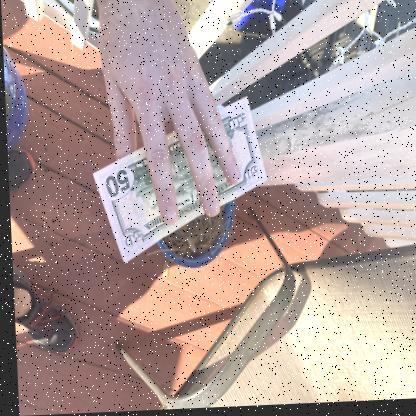fifty-back: (85, 96, 268, 268)
